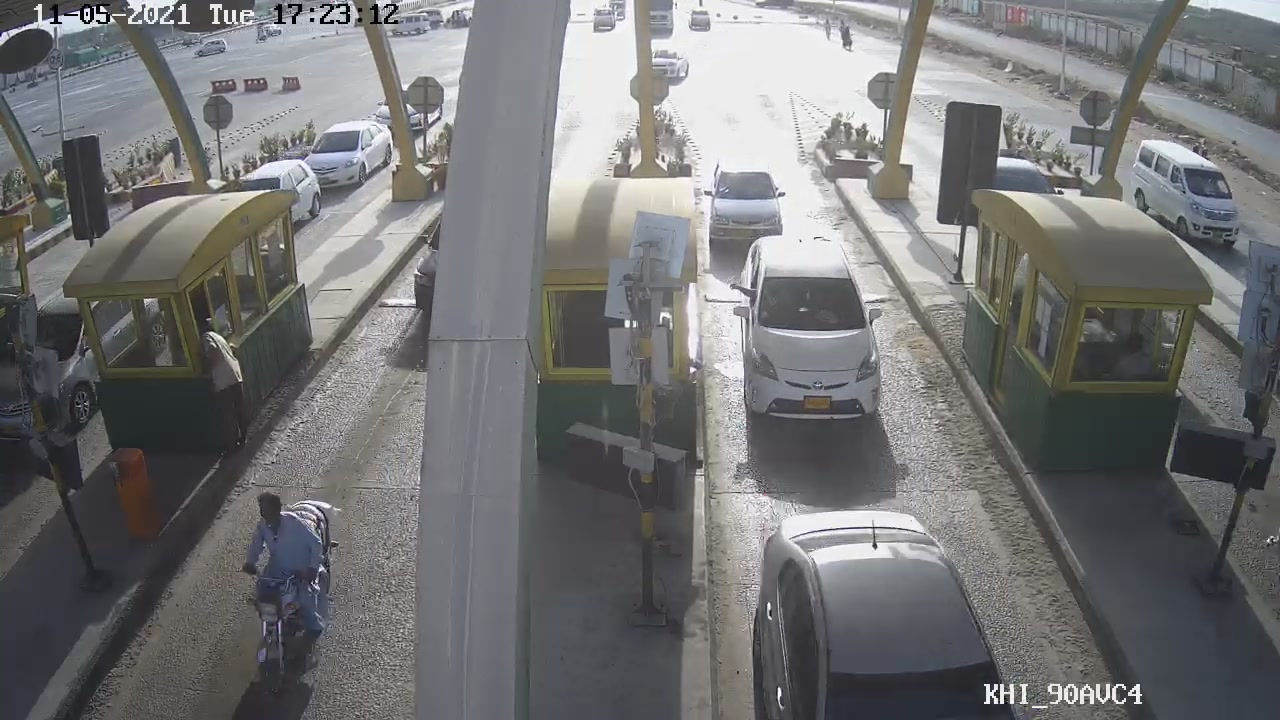F1: (733, 229, 887, 431)
